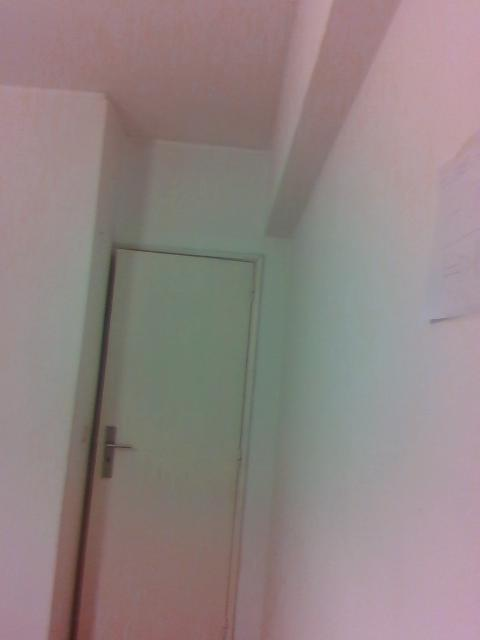closed_door: (67, 244, 260, 638)
